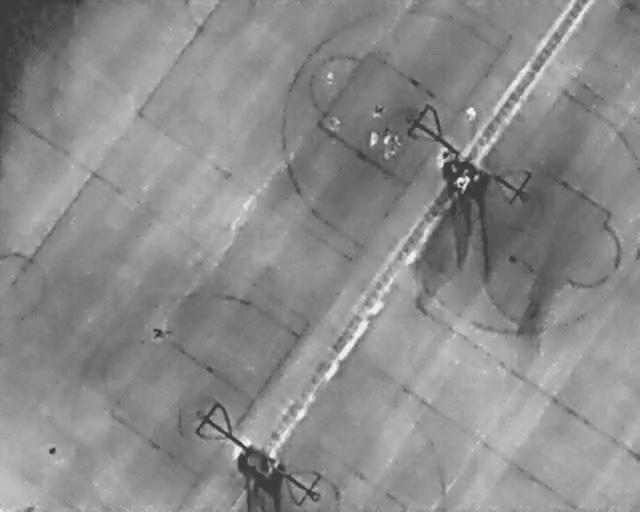Person: (382, 133, 401, 161), (434, 145, 452, 172), (368, 99, 388, 121), (455, 174, 471, 195), (464, 104, 478, 125), (151, 326, 170, 340), (328, 116, 341, 135), (368, 129, 379, 147), (325, 70, 335, 88)
